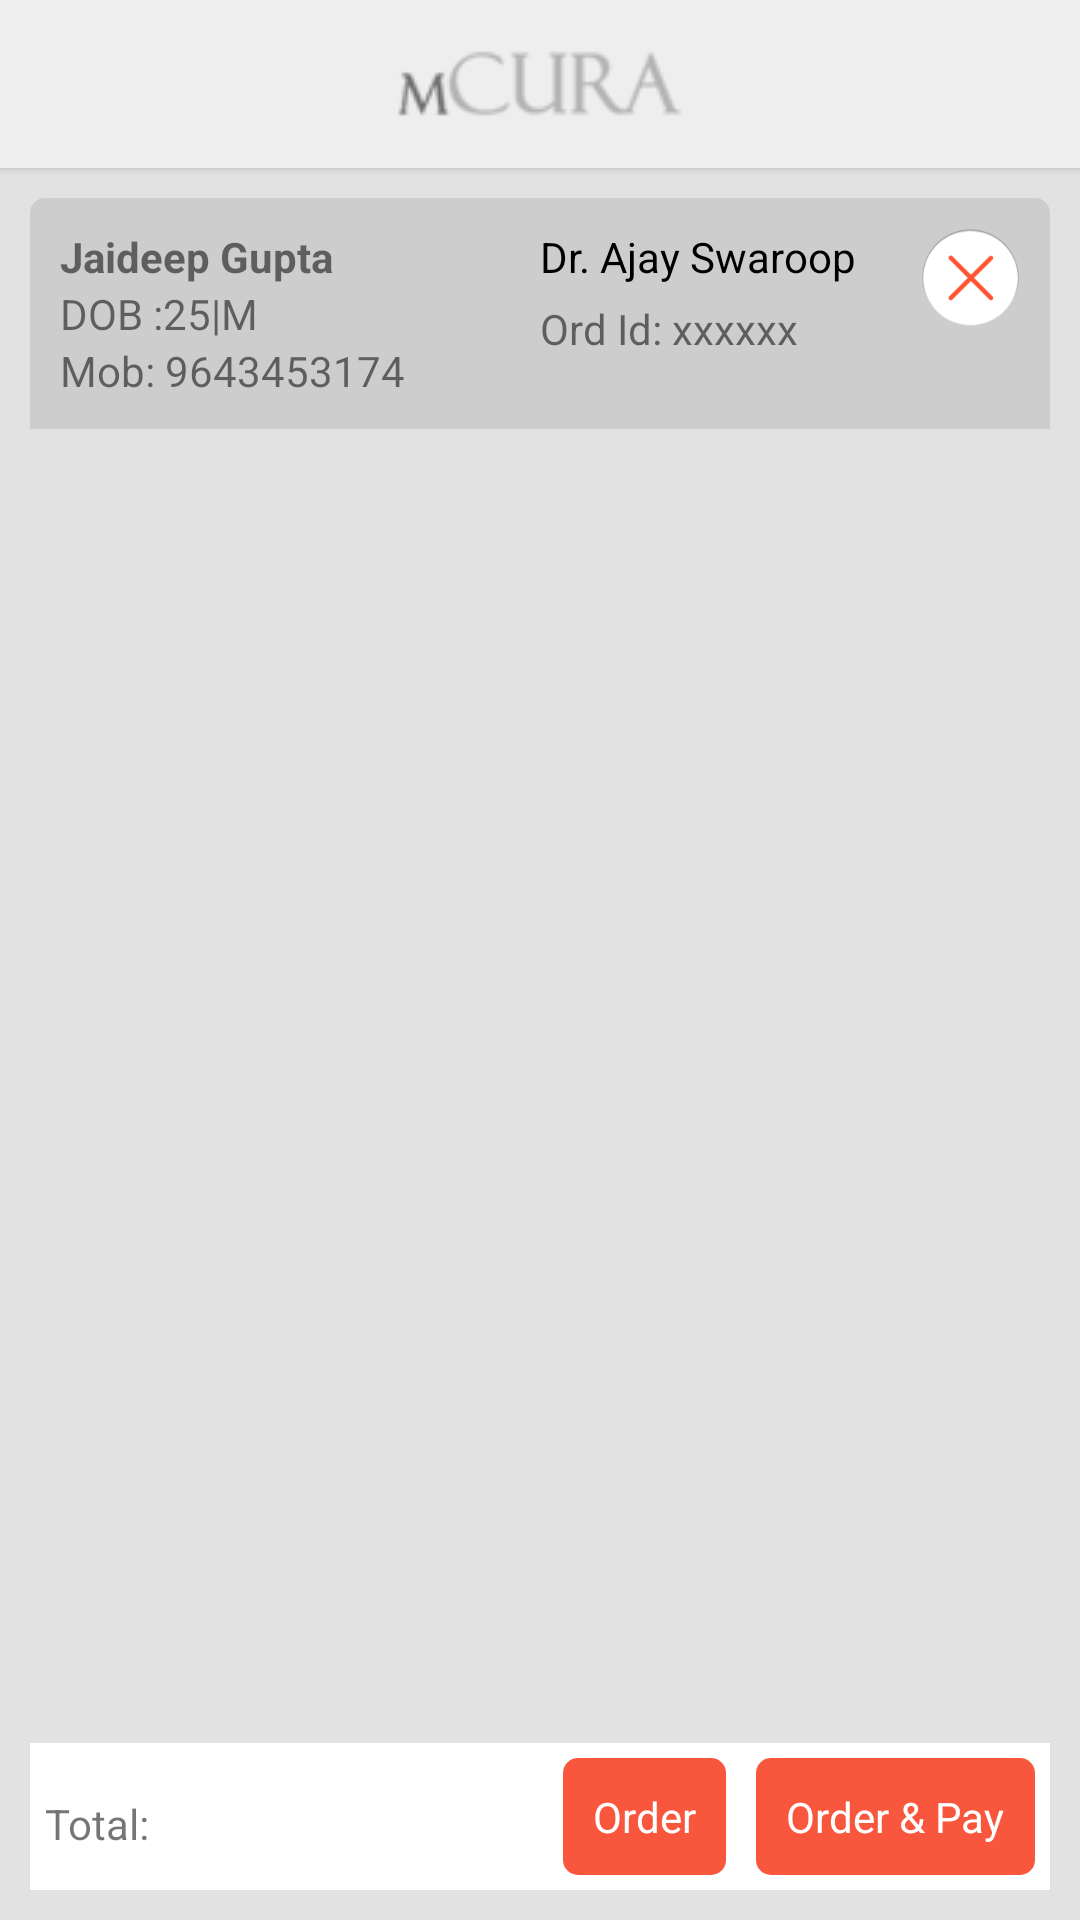

Icons on this 1080 × 1920 Android screen, each with its box as (x1, y1, x2, y2):
close dialog: (923, 229, 1018, 325)
